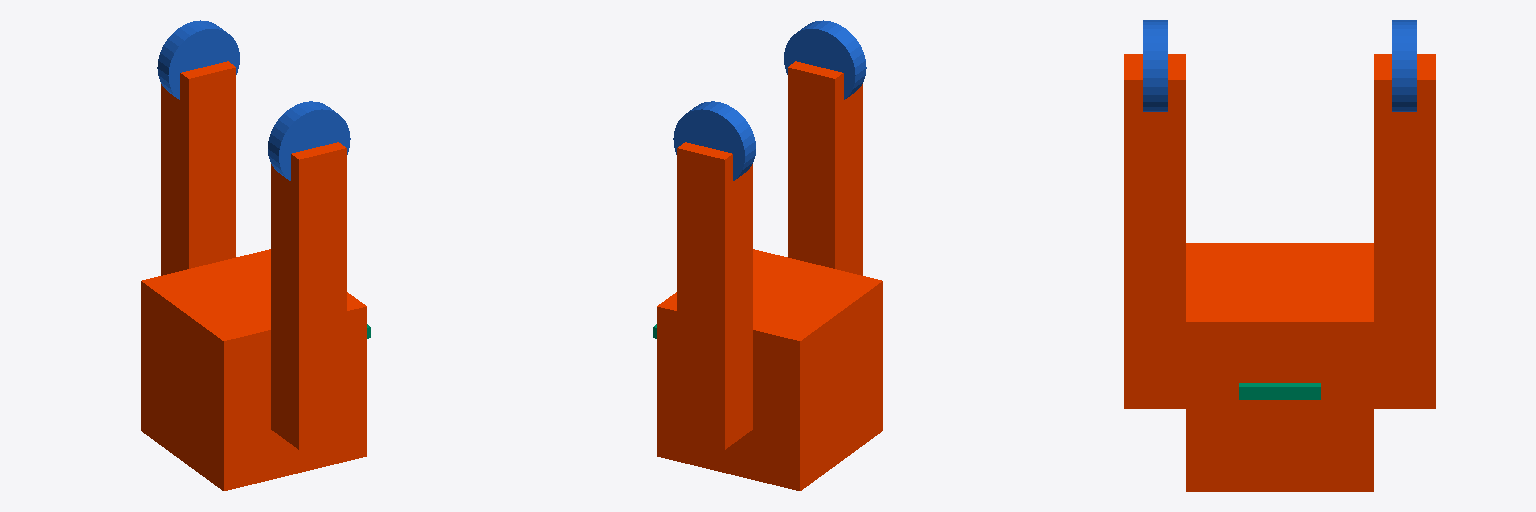
URDF robot description (ambula_bot):
<?xml version="1.0" ?>
<!-- =================================================================================== -->
<!-- |    This document was autogenerated by xacro from ambula.urdf.xacro              | -->
<!-- |    EDITING THIS FILE BY HAND IS NOT RECOMMENDED                                 | -->
<!-- =================================================================================== -->
<robot name="ambula_bot">
  <gazebo>
    <plugin filename="gz-sim-joint-position-controller-system" name="gz::sim::systems::JointPositionController">
      <joint_name>left_hip_joint</joint_name>
      <initial_position>-2.0</initial_position>
      <topic>left_hip_position_cmd</topic>
      <p_gain>250.0</p_gain>
      <i_gain>50.0</i_gain>
      <d_gain>0.01</d_gain>
    </plugin>
    <plugin filename="gz-sim-joint-position-controller-system" name="gz::sim::systems::JointPositionController">
      <joint_name>right_hip_joint</joint_name>
      <initial_position>-2.0</initial_position>
      <topic>right_hip_position_cmd</topic>
      <p_gain>250.0</p_gain>
      <i_gain>50.0</i_gain>
      <d_gain>0.01</d_gain>
    </plugin>
    <plugin filename="gz-sim-joint-position-controller-system" name="gz::sim::systems::JointPositionController">
      <joint_name>left_knee_joint</joint_name>
      <initial_position>-2.85</initial_position>
      <topic>left_knee_position_cmd</topic>
      <p_gain>250.0</p_gain>
      <i_gain>50.0</i_gain>
      <d_gain>0.01</d_gain>
    </plugin>
    <plugin filename="gz-sim-joint-position-controller-system" name="gz::sim::systems::JointPositionController">
      <joint_name>right_knee_joint</joint_name>
      <initial_position>-2.85</initial_position>
      <topic>right_knee_position_cmd</topic>
      <p_gain>250.0</p_gain>
      <i_gain>50.0</i_gain>
      <d_gain>0.01</d_gain>
    </plugin>
    <plugin filename="gz-sim-joint-controller-system" name="gz::sim::systems::JointController">
      <joint_name>left_wheel_joint</joint_name>
      <topic>left_wheel_velocity_cmd</topic>
      <p_gain>40.0</p_gain>
      <i_gain>1.0</i_gain>
      <d_gain>0.01</d_gain>
    </plugin>
    <plugin filename="gz-sim-joint-controller-system" name="gz::sim::systems::JointController">
      <joint_name>right_wheel_joint</joint_name>
      <topic>right_wheel_velocity_cmd</topic>
      <p_gain>40.0</p_gain>
      <i_gain>1.0</i_gain>
      <d_gain>0.01</d_gain>
    </plugin>
    <plugin filename="gz-sim-joint-position-controller-system" name="gz::sim::systems::JointPositionController">
      <joint_name>pillar1_to_base</joint_name>
      <initial_position>0.0</initial_position>
      <topic>pillar1_position_cmd</topic>
      <p_gain>40.0</p_gain>
      <i_gain>1.0</i_gain>
      <d_gain>0.01</d_gain>
    </plugin>
    <plugin filename="gz-sim-joint-position-controller-system" name="gz::sim::systems::JointPositionController">
      <joint_name>pillar2_to_base</joint_name>
      <initial_position>0.0</initial_position>
      <topic>pillar2_position_cmd</topic>
      <p_gain>40.0</p_gain>
      <i_gain>1.0</i_gain>
      <d_gain>0.01</d_gain>
    </plugin>
    <plugin filename="gz-sim-joint-state-publisher-system" name="gz::sim::systems::JointStatePublisher">
      <topic>joint_states</topic>
      <topic>left_hip_joint</topic>
      <topic>right_hip_joint</topic>
      <topic>left_knee_joint</topic>
      <topic>right_knee_joint</topic>
      <topic>left_wheel_joint</topic>
      <topic>right_wheel_joint</topic>
    </plugin>
  </gazebo>
  <!-- <link name="world" /> -->
  <link name="base_footprint"/>
  <link name="base_link">
    <visual>
      <origin rpy="0 0 0" xyz="0 0 0.15"/>
      <geometry>
        <box size="0.3 0.3 0.3"/>
      </geometry>
      <material name="orange">
        <color rgba="1.0 0.3 0.0 1.0"/>
      </material>
    </visual>
    <collision>
      <origin rpy="0 0 0" xyz="0 0 0.15"/>
      <geometry>
        <box size="0.3 0.3 0.3"/>
      </geometry>
    </collision>
    <inertial>
      <origin rpy="0 0 0" xyz="0 0 0.15"/>
      <mass value="7.0"/>
      <inertia ixx="0.10499999999999998" ixy="0.0" ixz="0.0" iyy="0.10499999999999998" iyz="0.0" izz="0.10499999999999998"/>
    </inertial>
  </link>
  <gazebo reference="base_link">
    <visual>
      <material>
        <ambient>0.8392 0.6314 0.0 1.0</ambient>
        <diffuse>0.8392 0.6314 0.0 1.0</diffuse>
        <specular>0.99 0.99 0.99 1.0</specular>
        <emissive>0.0 0.0 0.0 0.0</emissive>
      </material>
    </visual>
  </gazebo>
  <!-- <joint name="world_to_base" type="fixed">
            <origin rpy="0 0 0" xyz="0 0 1.0" />
            <parent link="world" />
            <child link="base_link" />
        </joint> -->
  <joint name="base_to_footprint" type="fixed">
    <parent link="base_footprint"/>
    <child link="base_link"/>
    <origin rpy="0 0 0" xyz="0 0 0.5"/>
  </joint>
  <link name="left_hip_link">
    <visual>
      <origin rpy="0 0 0" xyz="0 0 0.14"/>
      <geometry>
        <box size="0.1 0.1 0.28"/>
      </geometry>
      <material name="orange">
        <color rgba="1.0 0.3 0.0 1.0"/>
      </material>
    </visual>
    <collision>
      <origin rpy="0 0 0" xyz="0 0 0.14"/>
      <geometry>
        <box size="0.1 0.1 0.28"/>
      </geometry>
    </collision>
    <inertial>
      <origin rpy="0 0 0" xyz="0 0 0.14"/>
      <mass value="1.0"/>
      <inertia ixx="0.007366666666666667" ixy="0.0" ixz="0.0" iyy="0.007366666666666667" iyz="0.0" izz="0.001666666666666667"/>
    </inertial>
  </link>
  <gazebo reference="base_link">
    <visual>
      <material>
        <ambient>0.8392 0.6314 0.0 1.0</ambient>
        <diffuse>0.8392 0.6314 0.0 1.0</diffuse>
        <specular>0.99 0.99 0.99 1.0</specular>
        <emissive>0.0 0.0 0.0 0.0</emissive>
      </material>
    </visual>
  </gazebo>
  <joint name="left_hip_joint" type="revolute">
    <axis xyz="0 1 0"/>
    <origin xyz="0.0 0.2 0.1"/>
    <parent link="base_link"/>
    <child link="left_hip_link"/>
    <limit effort="1000" lower="-3.141592653589793" upper="0.0" velocity="10"/>
    <dynamics damping="5.0" friction="3.0"/>
  </joint>
  <link name="right_hip_link">
    <visual>
      <origin rpy="0 0 0" xyz="0 0 0.14"/>
      <geometry>
        <box size="0.1 0.1 0.28"/>
      </geometry>
      <material name="orange">
        <color rgba="1.0 0.3 0.0 1.0"/>
      </material>
    </visual>
    <collision>
      <origin rpy="0 0 0" xyz="0 0 0.14"/>
      <geometry>
        <box size="0.1 0.1 0.28"/>
      </geometry>
    </collision>
    <inertial>
      <origin rpy="0 0 0" xyz="0 0 0.14"/>
      <mass value="1.0"/>
      <inertia ixx="0.007366666666666667" ixy="0.0" ixz="0.0" iyy="0.007366666666666667" iyz="0.0" izz="0.001666666666666667"/>
    </inertial>
  </link>
  <gazebo reference="base_link">
    <visual>
      <material>
        <ambient>0.8392 0.6314 0.0 1.0</ambient>
        <diffuse>0.8392 0.6314 0.0 1.0</diffuse>
        <specular>0.99 0.99 0.99 1.0</specular>
        <emissive>0.0 0.0 0.0 0.0</emissive>
      </material>
    </visual>
  </gazebo>
  <joint name="right_hip_joint" type="revolute">
    <axis xyz="0 1 0"/>
    <origin xyz="0.0 -0.2 0.1"/>
    <parent link="base_link"/>
    <child link="right_hip_link"/>
    <limit effort="1000" lower="-3.141592653589793" upper="0.0" velocity="10"/>
    <dynamics damping="5.0" friction="3.0"/>
  </joint>
  <link name="left_knee_link">
    <visual>
      <origin rpy="0 0 0" xyz="0 0 0.15"/>
      <geometry>
        <box size="0.1 0.1 0.3"/>
      </geometry>
      <material name="orange">
        <color rgba="1.0 0.3 0.0 1.0"/>
      </material>
    </visual>
    <collision>
      <origin rpy="0 0 0" xyz="0 0 0.15"/>
      <geometry>
        <box size="0.1 0.1 0.3"/>
      </geometry>
    </collision>
    <inertial>
      <origin rpy="0 0 0" xyz="0 0 0.15"/>
      <mass value="1.0"/>
      <inertia ixx="0.008333333333333333" ixy="0.0" ixz="0.0" iyy="0.008333333333333333" iyz="0.0" izz="0.001666666666666667"/>
    </inertial>
  </link>
  <gazebo reference="base_link">
    <visual>
      <material>
        <ambient>0.8392 0.6314 0.0 1.0</ambient>
        <diffuse>0.8392 0.6314 0.0 1.0</diffuse>
        <specular>0.99 0.99 0.99 1.0</specular>
        <emissive>0.0 0.0 0.0 0.0</emissive>
      </material>
    </visual>
  </gazebo>
  <joint name="left_knee_joint" type="revolute">
    <axis xyz="0 1 0"/>
    <origin xyz="0.0 0.0 0.28"/>
    <parent link="left_hip_link"/>
    <child link="left_knee_link"/>
    <limit effort="1000" lower="-3.141592653589793" upper="0.0" velocity="10"/>
    <dynamics damping="5.0" friction="3.0"/>
  </joint>
  <link name="right_knee_link">
    <visual>
      <origin rpy="0 0 0" xyz="0 0 0.15"/>
      <geometry>
        <box size="0.1 0.1 0.3"/>
      </geometry>
      <material name="orange">
        <color rgba="1.0 0.3 0.0 1.0"/>
      </material>
    </visual>
    <collision>
      <origin rpy="0 0 0" xyz="0 0 0.15"/>
      <geometry>
        <box size="0.1 0.1 0.3"/>
      </geometry>
    </collision>
    <inertial>
      <origin rpy="0 0 0" xyz="0 0 0.15"/>
      <mass value="1.0"/>
      <inertia ixx="0.008333333333333333" ixy="0.0" ixz="0.0" iyy="0.008333333333333333" iyz="0.0" izz="0.001666666666666667"/>
    </inertial>
  </link>
  <gazebo reference="base_link">
    <visual>
      <material>
        <ambient>0.8392 0.6314 0.0 1.0</ambient>
        <diffuse>0.8392 0.6314 0.0 1.0</diffuse>
        <specular>0.99 0.99 0.99 1.0</specular>
        <emissive>0.0 0.0 0.0 0.0</emissive>
      </material>
    </visual>
  </gazebo>
  <joint name="right_knee_joint" type="revolute">
    <axis xyz="0 1 0"/>
    <origin xyz="0.0 0.0 0.28"/>
    <parent link="right_hip_link"/>
    <child link="right_knee_link"/>
    <limit effort="1000" lower="-3.141592653589793" upper="0.0" velocity="10"/>
    <dynamics damping="5.0" friction="3.0"/>
  </joint>
  <link name="left_wheel_link">
    <visual>
      <origin rpy="1.5707963267948966 0 0" xyz="0 0 0"/>
      <geometry>
        <cylinder length="0.04" radius="0.075"/>
      </geometry>
      <material name="blue">
        <color rgba="0.1764 0.4588 0.8509 1.0"/>
      </material>
    </visual>
    <collision>
      <origin rpy="1.5707963267948966 0 0" xyz="0 0 0"/>
      <geometry>
        <cylinder length="0.04" radius="0.075"/>
      </geometry>
    </collision>
    <inertial>
      <origin rpy="0 0 0" xyz="0 0 0"/>
      <mass value="2.0"/>
      <inertia ixx="0.0045" ixy="0" ixz="0" iyy="0.0045" iyz="0" izz="0.0045"/>
    </inertial>
  </link>
  <gazebo reference="left_wheel_link">
    <mu1>0.01</mu1>
    <mu2>0.01</mu2>
  </gazebo>
  <gazebo reference="left_wheel_link">
    <visual>
      <material>
        <ambient>0.1764 0.4588 0.8509 1.0</ambient>
        <diffuse>0.1764 0.4588 0.8509 1.0</diffuse>
        <specular>0.1764 0.4588 0.8509 1.0</specular>
        <emissive>0.0 0.0 0.0 0.0</emissive>
      </material>
    </visual>
  </gazebo>
  <joint name="left_wheel_joint" type="continuous">
    <axis xyz="0 1 0"/>
    <parent link="left_knee_link"/>
    <child link="left_wheel_link"/>
    <origin rpy="0 0 0" xyz="0.0 0.0 0.3"/>
    <dynamics damping="0.01" friction="0.0"/>
  </joint>
  <link name="right_wheel_link">
    <visual>
      <origin rpy="1.5707963267948966 0 0" xyz="0 0 0"/>
      <geometry>
        <cylinder length="0.04" radius="0.075"/>
      </geometry>
      <material name="blue">
        <color rgba="0.1764 0.4588 0.8509 1.0"/>
      </material>
    </visual>
    <collision>
      <origin rpy="1.5707963267948966 0 0" xyz="0 0 0"/>
      <geometry>
        <cylinder length="0.04" radius="0.075"/>
      </geometry>
    </collision>
    <inertial>
      <origin rpy="0 0 0" xyz="0 0 0"/>
      <mass value="2.0"/>
      <inertia ixx="0.0045" ixy="0" ixz="0" iyy="0.0045" iyz="0" izz="0.0045"/>
    </inertial>
  </link>
  <gazebo reference="right_wheel_link">
    <mu1>0.01</mu1>
    <mu2>0.01</mu2>
  </gazebo>
  <gazebo reference="right_wheel_link">
    <visual>
      <material>
        <ambient>0.1764 0.4588 0.8509 1.0</ambient>
        <diffuse>0.1764 0.4588 0.8509 1.0</diffuse>
        <specular>0.1764 0.4588 0.8509 1.0</specular>
        <emissive>0.0 0.0 0.0 0.0</emissive>
      </material>
    </visual>
  </gazebo>
  <joint name="right_wheel_joint" type="continuous">
    <axis xyz="0 1 0"/>
    <parent link="right_knee_link"/>
    <child link="right_wheel_link"/>
    <origin rpy="0 0 0" xyz="0.0 0.0 0.3"/>
    <dynamics damping="0.01" friction="0.0"/>
  </joint>
  <link name="left_passive_wheel_link">
    <visual>
      <origin rpy="1.5707963267948966 0 0" xyz="0 0 0"/>
      <geometry>
        <cylinder length="0.01" radius="0.03"/>
      </geometry>
      <material name="blue">
        <color rgba="0.1764 0.4588 0.8509 1.0"/>
      </material>
    </visual>
    <collision>
      <origin rpy="1.5707963267948966 0 0" xyz="0 0 0"/>
      <geometry>
        <cylinder length="0.01" radius="0.03"/>
      </geometry>
    </collision>
    <inertial>
      <origin rpy="0 0 0" xyz="0 0 0"/>
      <mass value="0.1"/>
      <inertia ixx="3.600000000000001e-05" ixy="0" ixz="0" iyy="3.600000000000001e-05" iyz="0" izz="3.600000000000001e-05"/>
    </inertial>
  </link>
  <gazebo reference="left_passive_wheel_link">
    <mu1>0.01</mu1>
    <mu2>0.01</mu2>
  </gazebo>
  <gazebo reference="left_passive_wheel_link">
    <visual>
      <material>
        <ambient>0.1764 0.4588 0.8509 1.0</ambient>
        <diffuse>0.1764 0.4588 0.8509 1.0</diffuse>
        <specular>0.1764 0.4588 0.8509 1.0</specular>
        <emissive>0.0 0.0 0.0 0.0</emissive>
      </material>
    </visual>
  </gazebo>
  <joint name="left_passive_wheel_joint" type="fixed">
    <axis xyz="0 0 0"/>
    <parent link="left_hip_link"/>
    <child link="left_passive_wheel_link"/>
    <origin rpy="0 0 0" xyz="0.0 0.0 0.34"/>
  </joint>
  <link name="right_passive_wheel_link">
    <visual>
      <origin rpy="1.5707963267948966 0 0" xyz="0 0 0"/>
      <geometry>
        <cylinder length="0.01" radius="0.03"/>
      </geometry>
      <material name="blue">
        <color rgba="0.1764 0.4588 0.8509 1.0"/>
      </material>
    </visual>
    <collision>
      <origin rpy="1.5707963267948966 0 0" xyz="0 0 0"/>
      <geometry>
        <cylinder length="0.01" radius="0.03"/>
      </geometry>
    </collision>
    <inertial>
      <origin rpy="0 0 0" xyz="0 0 0"/>
      <mass value="0.1"/>
      <inertia ixx="3.600000000000001e-05" ixy="0" ixz="0" iyy="3.600000000000001e-05" iyz="0" izz="3.600000000000001e-05"/>
    </inertial>
  </link>
  <gazebo reference="right_passive_wheel_link">
    <mu1>0.01</mu1>
    <mu2>0.01</mu2>
  </gazebo>
  <gazebo reference="right_passive_wheel_link">
    <visual>
      <material>
        <ambient>0.1764 0.4588 0.8509 1.0</ambient>
        <diffuse>0.1764 0.4588 0.8509 1.0</diffuse>
        <specular>0.1764 0.4588 0.8509 1.0</specular>
        <emissive>0.0 0.0 0.0 0.0</emissive>
      </material>
    </visual>
  </gazebo>
  <joint name="right_passive_wheel_joint" type="fixed">
    <axis xyz="0 0 0"/>
    <parent link="right_hip_link"/>
    <child link="right_passive_wheel_link"/>
    <origin rpy="0 0 0" xyz="0.0 0.0 0.34"/>
  </joint>
  <link name="camera_link">
    <visual>
      <origin rpy="0 0 0" xyz="0 0 0"/>
      <geometry>
        <box size="0.015 0.130 0.022"/>
      </geometry>
    </visual>
    <collision>
      <origin rpy="0 0 0" xyz="0 0 0"/>
      <geometry>
        <box size="0.015 0.130 0.022"/>
      </geometry>
    </collision>
    <inertial>
      <origin rpy="0 0 0" xyz="0 0 0"/>
      <mass value="0.035"/>
      <inertia ixx="0.001" ixy="0" ixz="0" iyy="0.001" iyz="0" izz="0.001"/>
    </inertial>
  </link>
  <joint name="camera_to_base_link" type="fixed">
    <parent link="base_link"/>
    <child link="camera_link"/>
    <origin rpy="0 0 0" xyz="0.2 0 0.2"/>
  </joint>
  <gazebo reference="camera_link">
    <sensor name="depth_camera" type="rgbd_camera">
      <always_on>true</always_on>
      <visualize>true</visualize>
      <update_rate>15</update_rate>
      <topic>depth_camera</topic>
      <gz_frame_id>camera_link</gz_frame_id>
      <camera>
        <horizontal_fov>1.047198</horizontal_fov>
        <image>
          <width>640</width>
          <height>480</height>
        </image>
        <clip>
          <near>0.05</near>
          <far>3.0</far>
        </clip>
        <distortion>
          <!-- Brown–Conrady -->
          <k1>0.0</k1>
          <k2>0.0</k2>
          <k3>0.0</k3>
          <p1>0.0</p1>
          <p2>0.0</p2>
          <center>0.5 0.5</center>
          <!-- principal point (normalized) -->
        </distortion>
      </camera>
    </sensor>
  </gazebo>
  <link name="imu_link">
    <visual>
      <origin rpy="0 0 0" xyz="0 0 0"/>
      <geometry>
        <box size="0.01 0.01 0.01"/>
      </geometry>
    </visual>
    <collision>
      <origin rpy="0 0 0" xyz="0 0 0"/>
      <geometry>
        <box size="0.01 0.01 0.01"/>
      </geometry>
    </collision>
    <inertial>
      <origin rpy="0 0 0" xyz="0 0 0"/>
      <mass value="0.035"/>
      <inertia ixx="0.001" ixy="0" ixz="0" iyy="0.001" iyz="0" izz="0.001"/>
    </inertial>
  </link>
  <joint name="imu_to_camera" type="fixed">
    <parent link="camera_link"/>
    <child link="imu_link"/>
    <origin rpy="0 0 0" xyz="0 0 0"/>
  </joint>
  <gazebo reference="imu_link">
    <sensor name="imu_sensor" type="imu">
      <pose relative_to="base_link">0 0 0 0 0 0</pose>
      <always_on>1</always_on>
      <update_rate>1000.0</update_rate>
      <topic>imu</topic>
      <gz_frame_id>imu_link</gz_frame_id>
    </sensor>
    <sensor name="navsat" type="navsat">
      <always_on>1</always_on>
      <update_rate>1</update_rate>
      <topic>navsat</topic>
      <gz_frame_id>imu_link</gz_frame_id>
    </sensor>
  </gazebo>
  <!-- <xacro:ambula_ros2_control/> -->
</robot>

--- Render facts (derived) ---
3 views of the same robot in one strip: view 1: azimuth 30°, elevation 25°; view 2: azimuth 150°, elevation 25°; view 3: azimuth 270°, elevation 25° (orthographic).
Robot: ambula_bot — 12 links, 11 joints (4 revolute, 2 continuous, 5 fixed); root link base_footprint; default pose: every joint at zero.
Links seen in each view (by area): view 1: base_link, right_knee_link, left_knee_link, right_hip_link, right_wheel_link, left_wheel_link, left_hip_link; view 2: base_link, left_knee_link, right_knee_link, left_hip_link, left_wheel_link, right_wheel_link, right_hip_link; view 3: base_link, left_knee_link, right_knee_link, left_hip_link, right_hip_link, left_wheel_link, right_wheel_link, camera_link.
Link boxes in pixels (x1=…): base_link: x1=141, y1=249, x2=366, y2=490; right_knee_link: x1=271, y1=142, x2=346, y2=309; left_knee_link: x1=161, y1=61, x2=235, y2=228; right_hip_link: x1=271, y1=290, x2=346, y2=449; right_wheel_link: x1=268, y1=101, x2=350, y2=180; left_wheel_link: x1=157, y1=20, x2=239, y2=99; left_hip_link: x1=161, y1=209, x2=235, y2=275; base_link: x1=657, y1=249, x2=882, y2=490; left_knee_link: x1=677, y1=142, x2=752, y2=309; right_knee_link: x1=788, y1=61, x2=862, y2=228; left_hip_link: x1=677, y1=290, x2=752, y2=449; left_wheel_link: x1=673, y1=101, x2=755, y2=180; right_wheel_link: x1=784, y1=20, x2=866, y2=99; right_hip_link: x1=788, y1=209, x2=862, y2=275; base_link: x1=1186, y1=243, x2=1373, y2=491; left_knee_link: x1=1374, y1=54, x2=1435, y2=249; right_knee_link: x1=1124, y1=54, x2=1185, y2=249; left_hip_link: x1=1374, y1=250, x2=1435, y2=408; right_hip_link: x1=1124, y1=250, x2=1185, y2=408; left_wheel_link: x1=1392, y1=20, x2=1416, y2=111; right_wheel_link: x1=1143, y1=20, x2=1167, y2=111; camera_link: x1=1239, y1=383, x2=1320, y2=399.
Bounding box of the posed robot: 0.3575 × 0.5 × 0.755 m (x, y, z).
Geometry: primitives only (box / cylinder / sphere), no mesh files.
